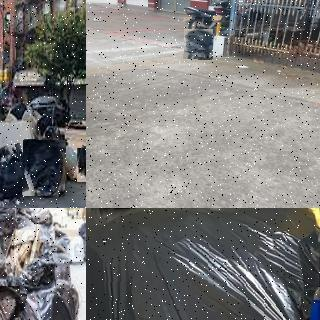Garbage: (86, 208, 320, 320), (16, 261, 81, 320), (23, 140, 66, 197), (0, 145, 31, 198), (184, 29, 213, 60), (75, 146, 86, 183), (78, 220, 86, 244)
